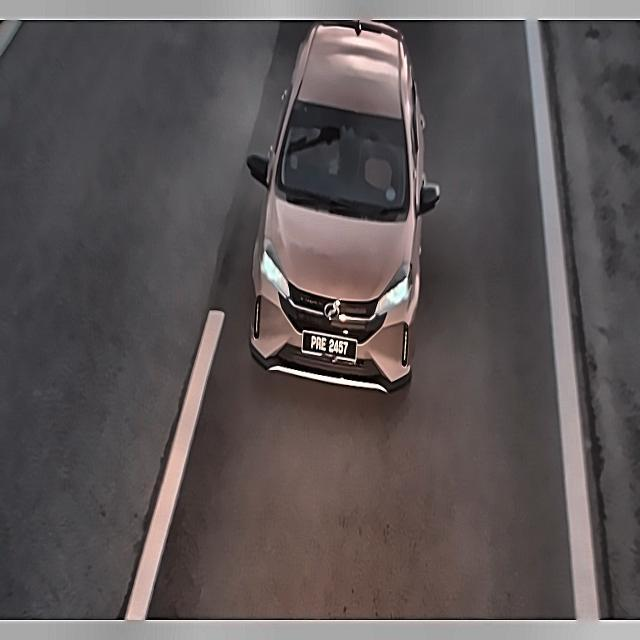car: (303, 324, 356, 365)
